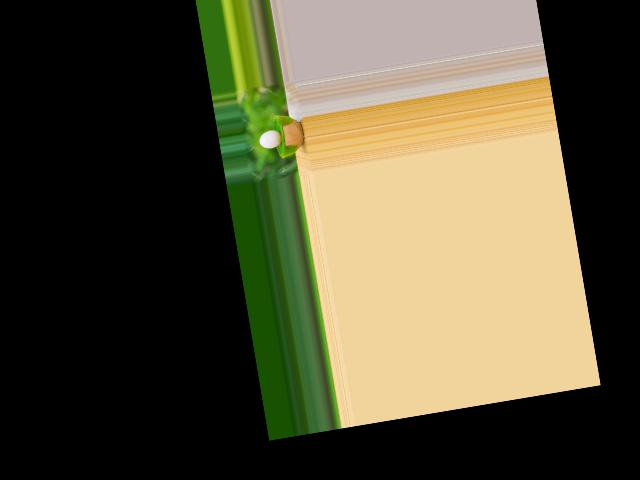egg: (258, 128, 283, 149)
